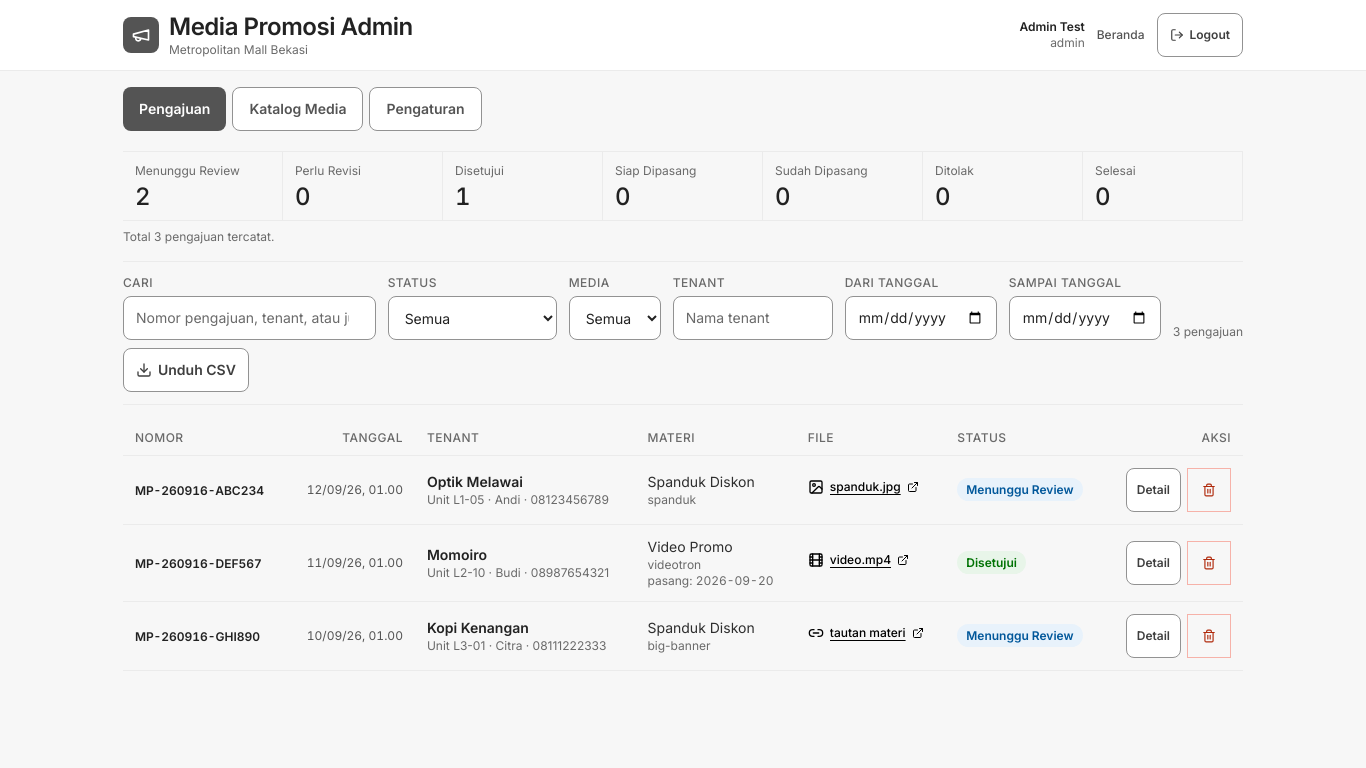
it: AdminDashboardPage › katalog kosong → panel keadaan kosong, bukan grid tanpa pesan
expect the text "Optik Melawai" is shown: met, box [427,472,523,490]
Click the tab "Katalog Media" at (298, 109), box [232,87,363,131]
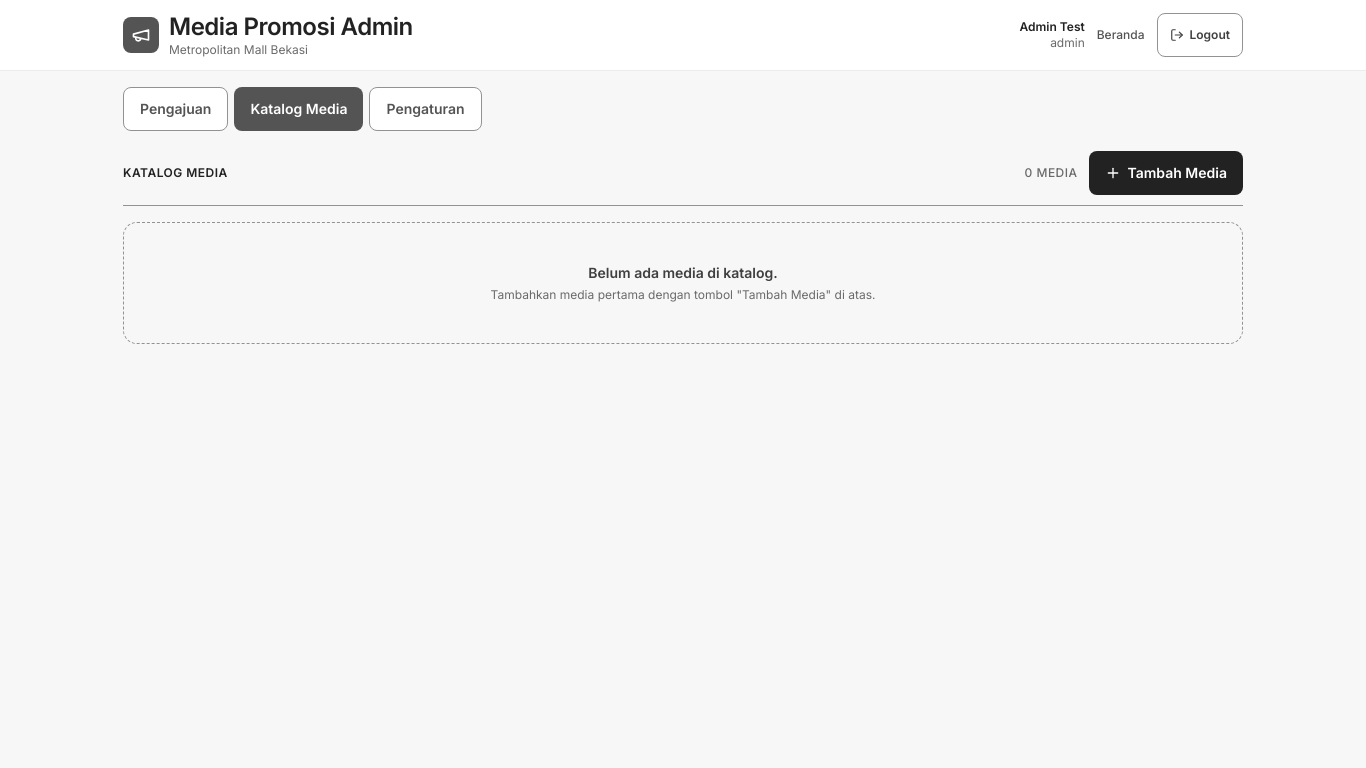
expect the text "Belum ada media di katalog" is shown: met, box [588,264,778,281]
